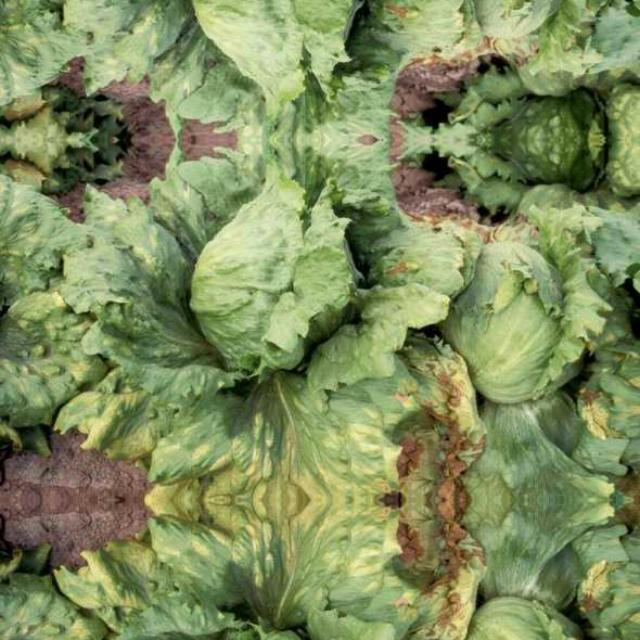Lettuce - Anthracnose: (333, 141, 640, 480), (333, 0, 640, 136), (333, 517, 640, 640)
